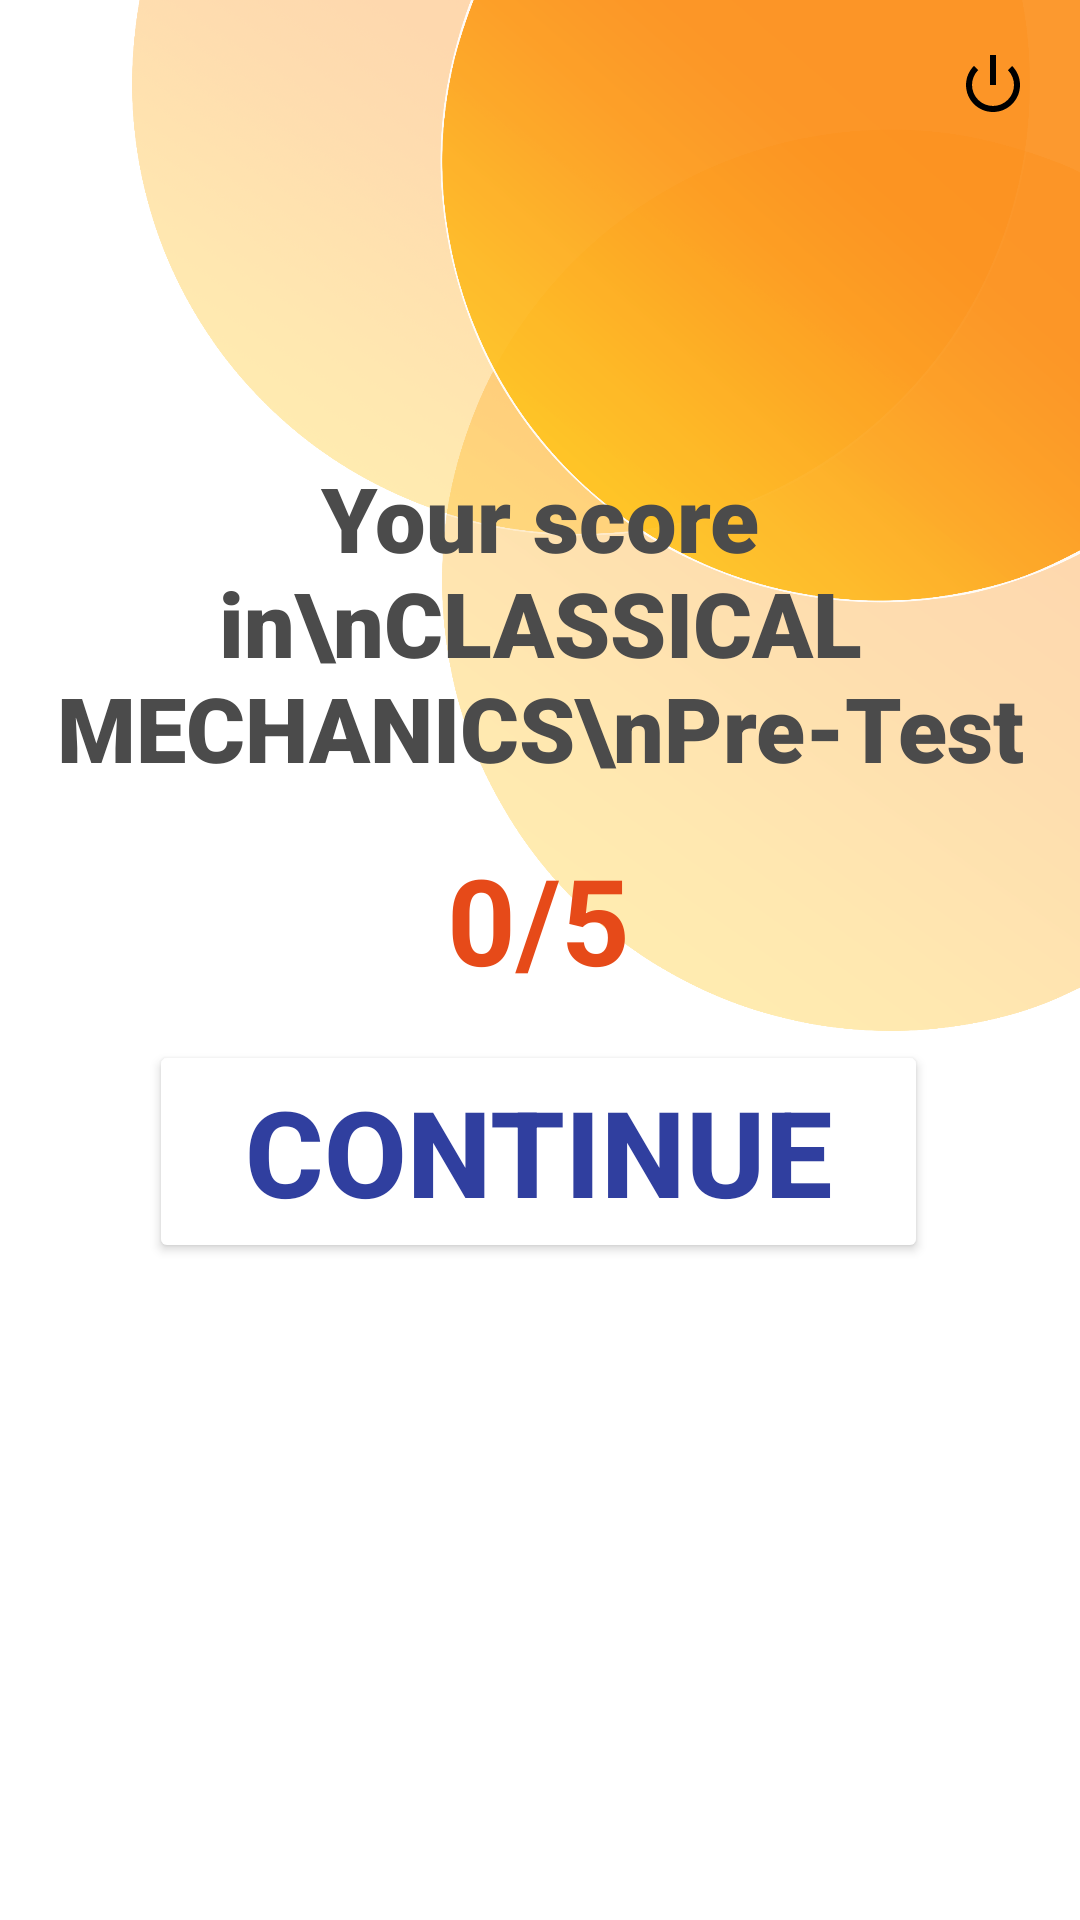

Locate icon controls on the screen. Image size 1080px x 1920px, boxes as detection(x1, y1, x2, y2).
lock power off: detection(966, 55, 1020, 112)
